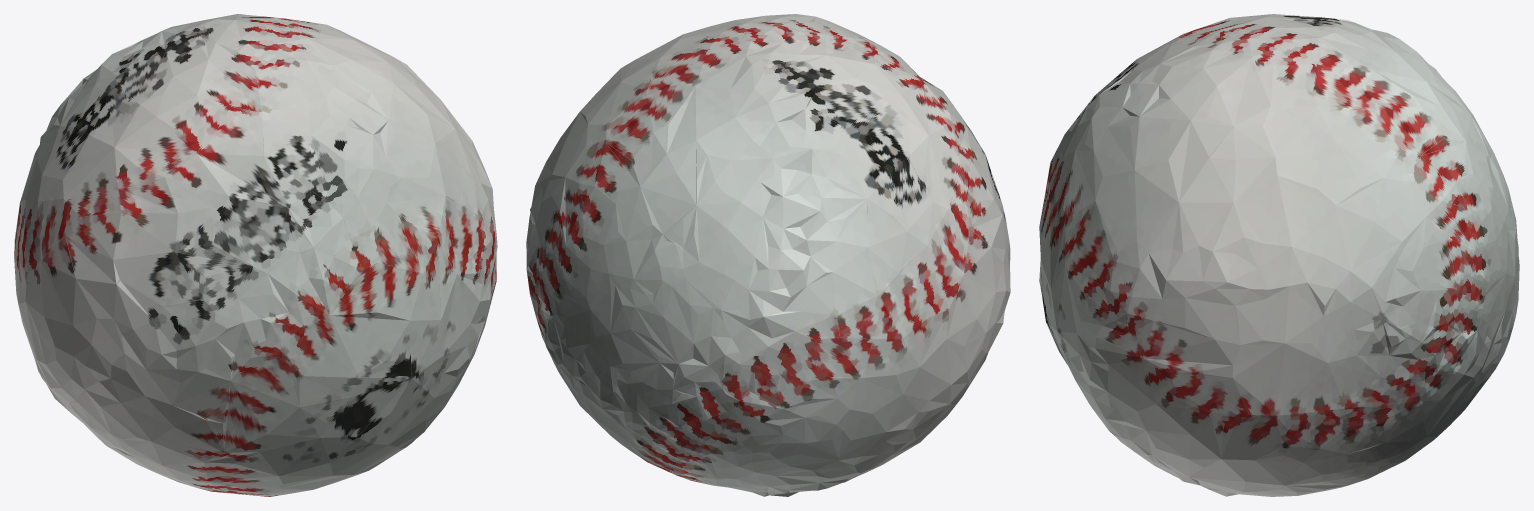
File: ycb_baseball_metric_fp.obj
The picture shows the model from 3 angles, left to right: view 1: azimuth 30°, elevation 25°; view 2: azimuth 150°, elevation 25°; view 3: azimuth 270°, elevation 25°; orthographic projection.
Size of the model in its own units: 0.0732 by 0.0735 by 0.0726.
1 material, 1 textured.
